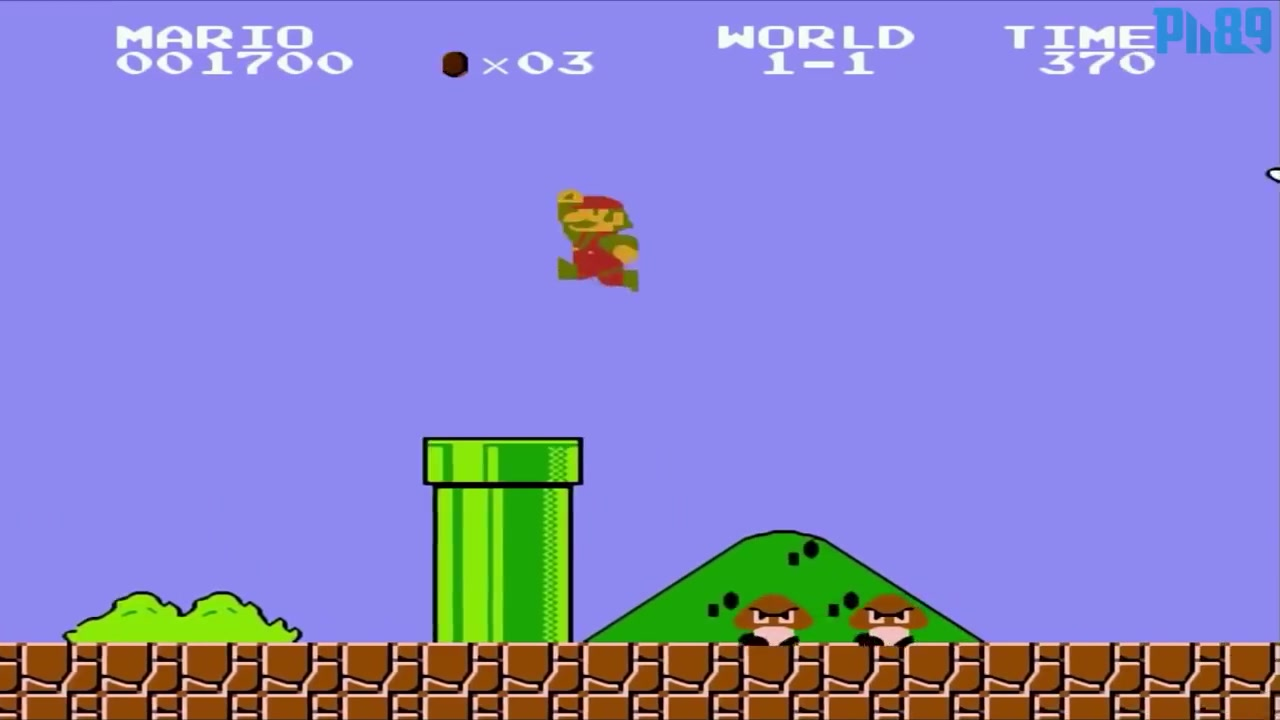mario: (545, 181, 649, 291)
